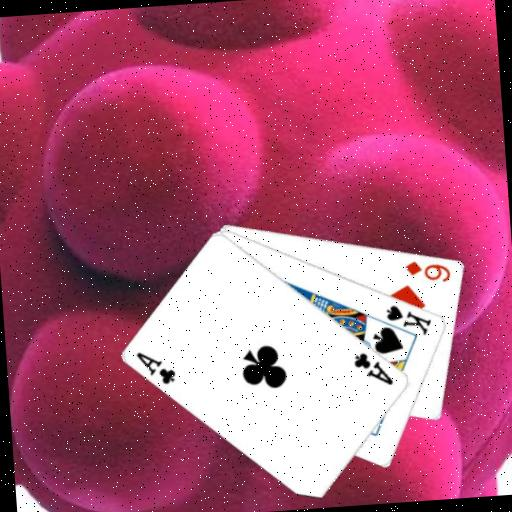6D: (402, 255, 454, 286)
AC: (133, 346, 179, 389), (351, 347, 396, 390)
KS: (383, 299, 434, 339)
